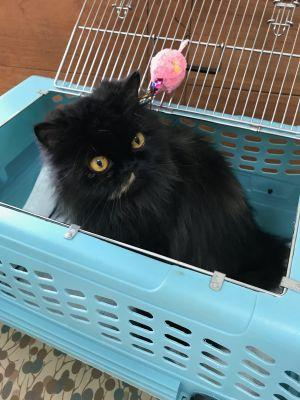persian: (26, 78, 177, 201)
